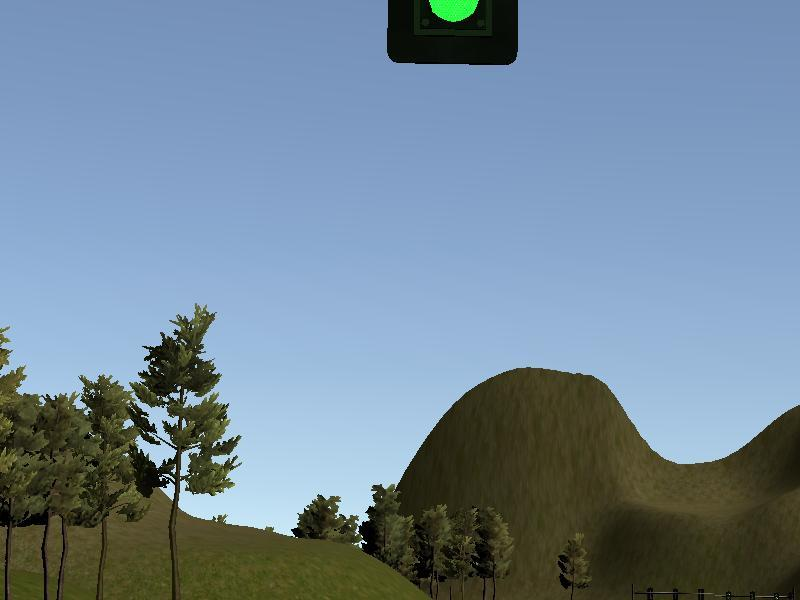Green: (389, 1, 522, 64)
